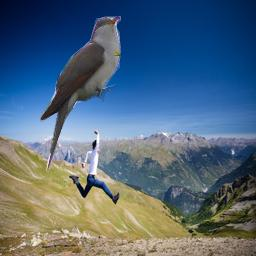Cuckoo: (39, 16, 121, 174)
